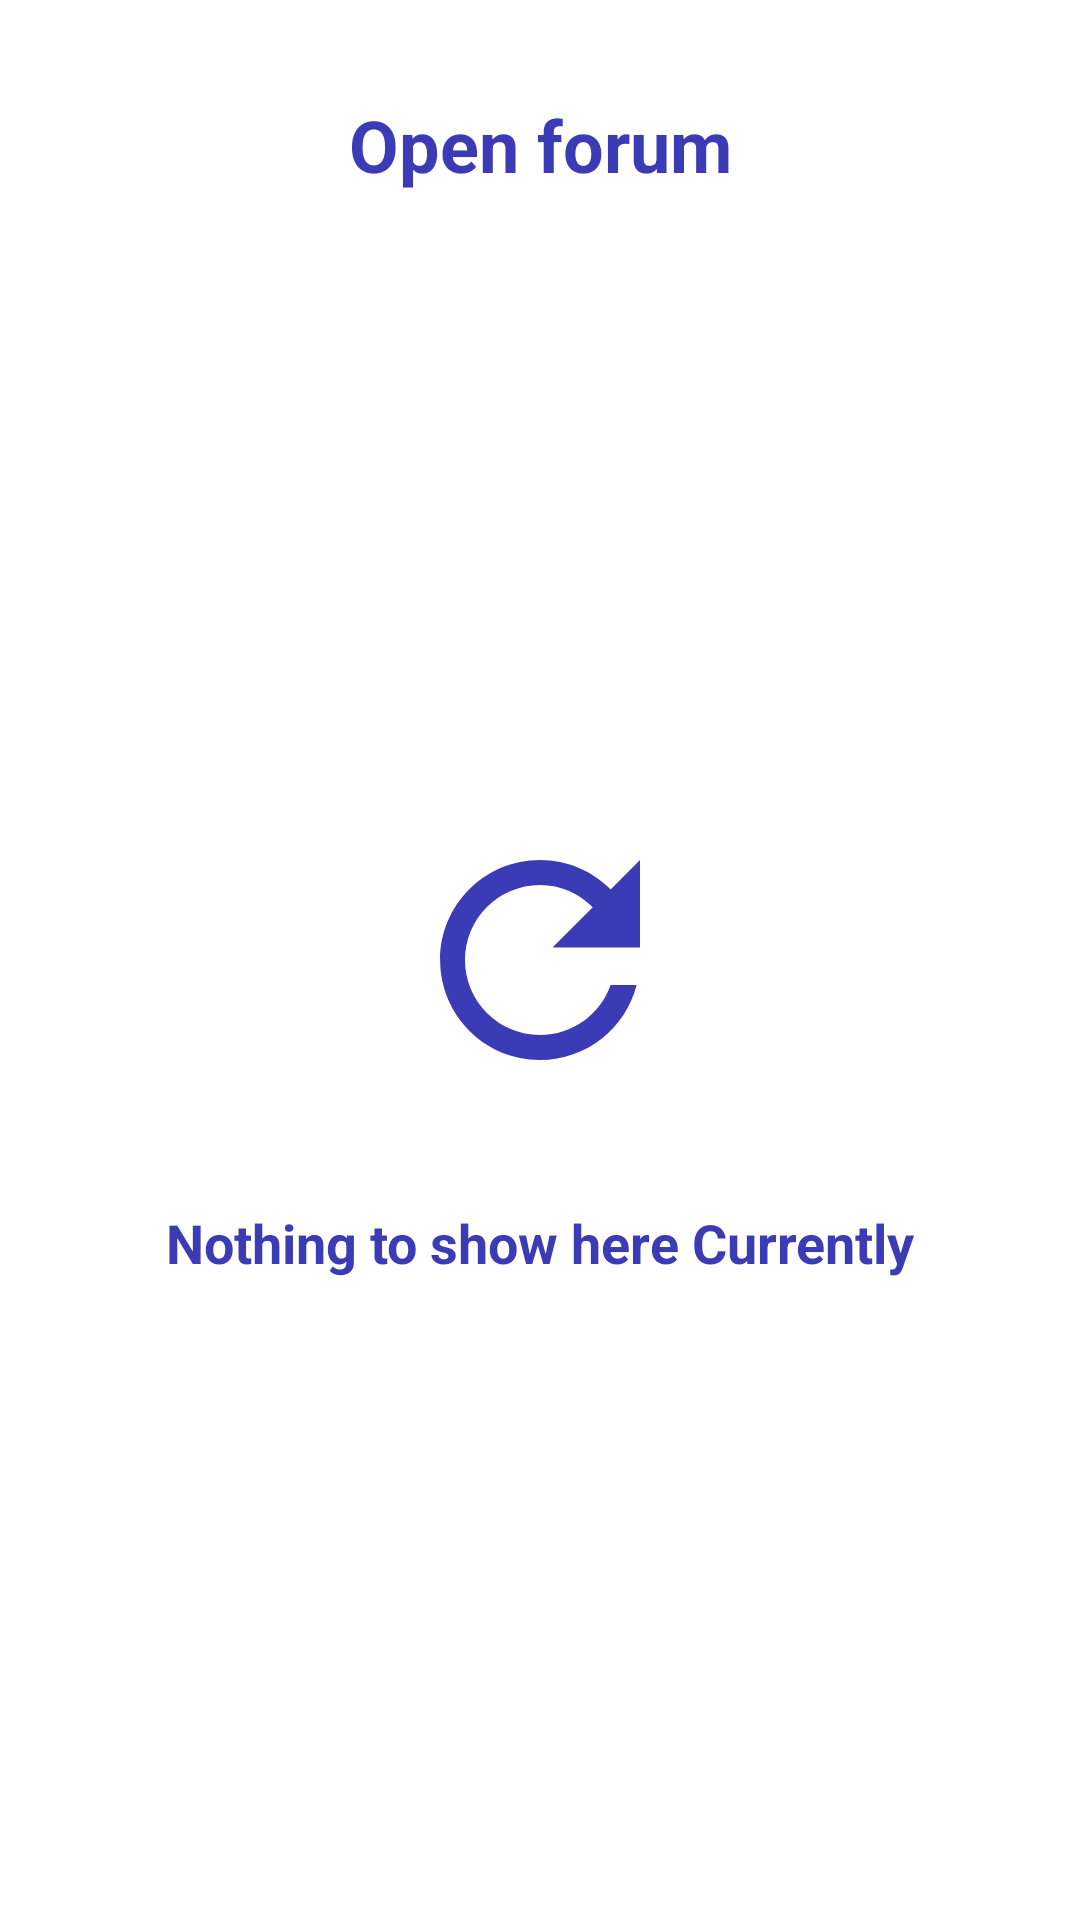

Point at icon controls on the screen. Image size 1080*1920, points as (x,y).
refresh icon: (540,960)
